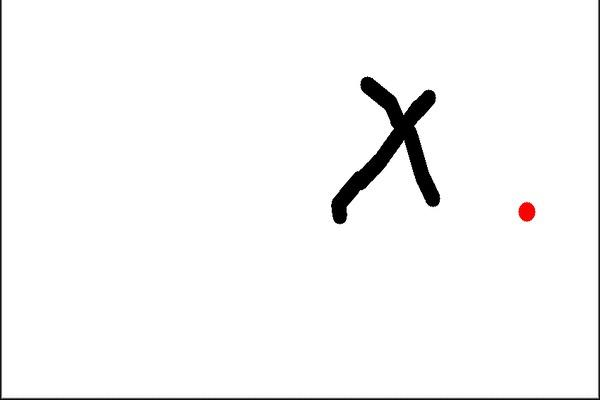X: (311, 59, 460, 233)
